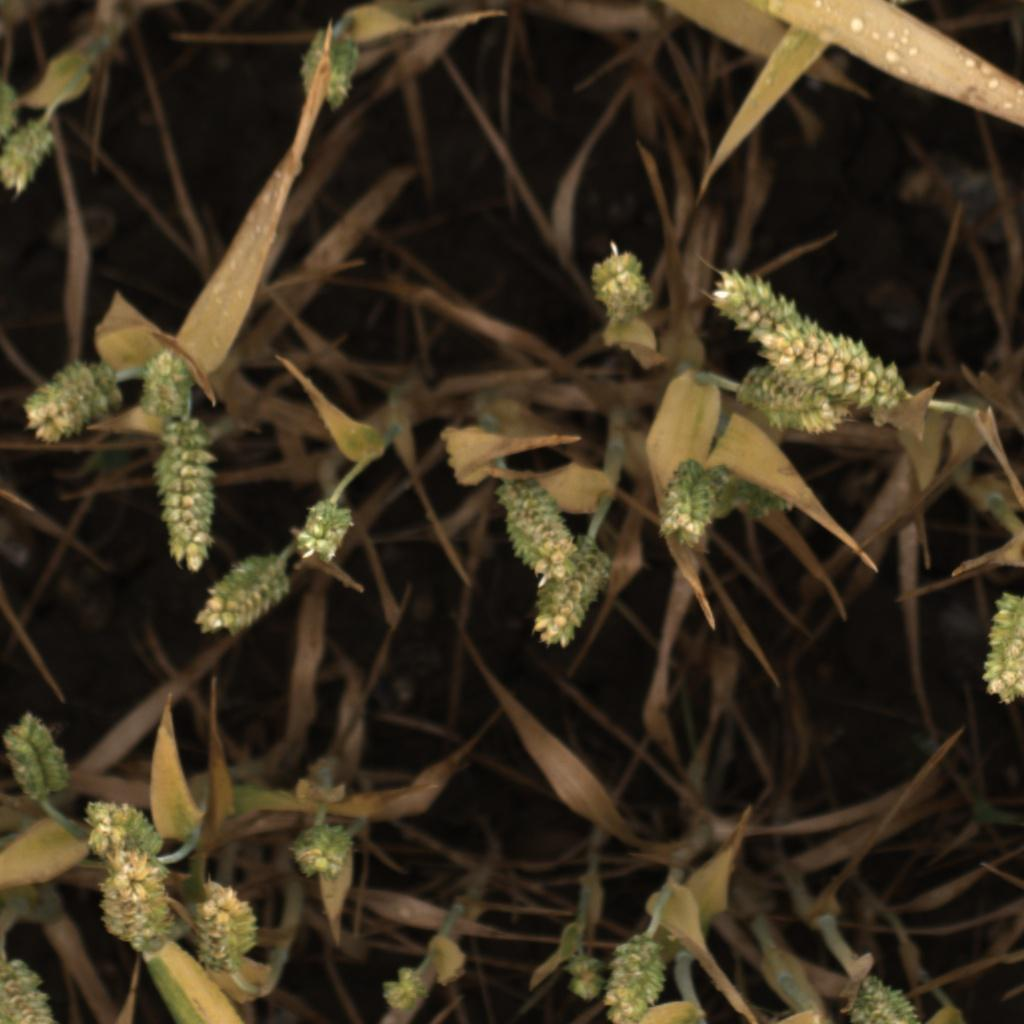0-0: (650, 460, 812, 550), (756, 322, 917, 409), (150, 415, 230, 573), (194, 543, 303, 643), (707, 266, 830, 354), (529, 540, 616, 651), (18, 360, 123, 446), (495, 486, 579, 583), (94, 848, 177, 946), (734, 368, 845, 440), (578, 245, 666, 327), (186, 878, 257, 979), (0, 710, 77, 800), (593, 934, 670, 1024), (135, 347, 217, 429), (78, 795, 166, 865), (293, 31, 363, 113), (980, 591, 1024, 710), (0, 123, 61, 200), (287, 820, 355, 888), (290, 498, 357, 563), (0, 962, 68, 1024), (850, 976, 929, 1024), (374, 963, 437, 1019), (564, 950, 613, 1011)
